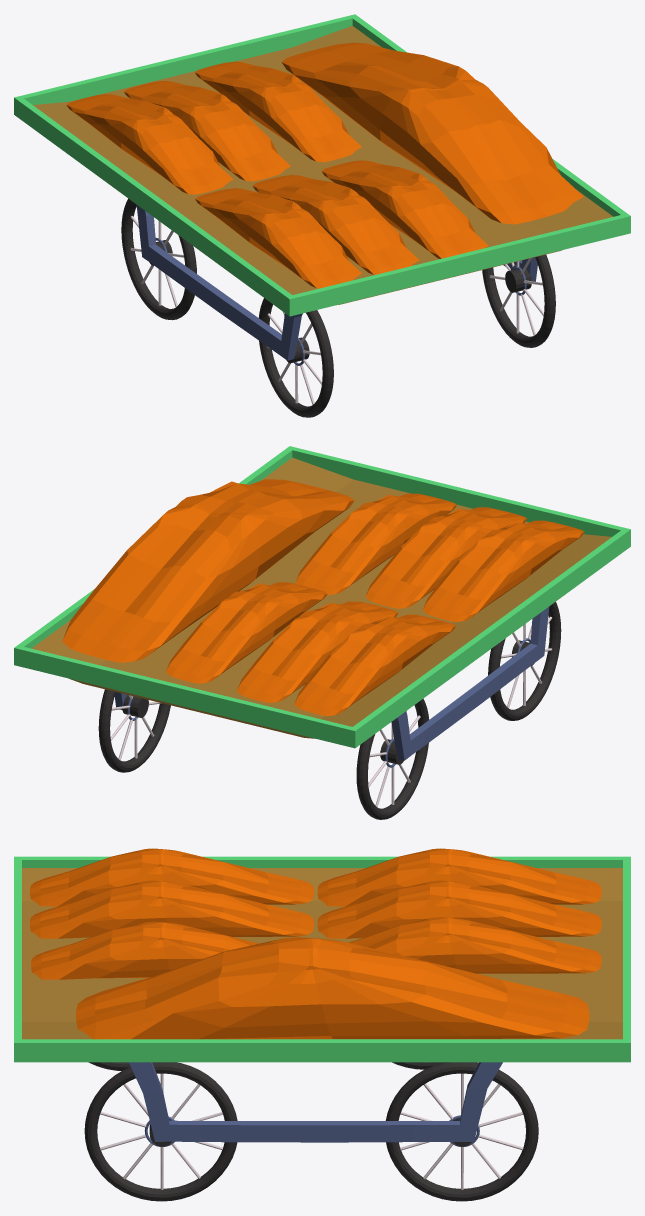
Rendered from Food Cart.fbx.
3 views of the same model, one above another, from view 1: azimuth 30°, elevation 25°; view 2: azimuth 150°, elevation 25°; view 3: azimuth 270°, elevation 25° (orthographic). The views are drawn at different scales.
Visible parts, largest first — view 1: Cube.007, Cube, Cube.005, Cube.001, Cube.015, Cube.003, Cube.004, Cube.006; view 2: Cube.007, Cube, Cube.005, Cube.015, Cube.001, Cube.003, Cube.004, Cube.006; view 3: Cube.007, Cube, Cube.006, Cube.004, Cube.005, Cube.015, Cube.001, Cube.003.
Boxes of the visible parts, x1,y1,x2,y2 form: Cube.007: (14, 14, 630, 417); Cube: (281, 42, 583, 224); Cube.005: (66, 94, 233, 194); Cube.001: (195, 61, 361, 162); Cube.015: (195, 188, 361, 288); Cube.003: (321, 160, 488, 258); Cube.004: (124, 81, 290, 181); Cube.006: (252, 175, 419, 274); Cube.007: (14, 446, 630, 819); Cube: (62, 479, 354, 662); Cube.005: (294, 614, 455, 716); Cube.015: (423, 520, 584, 621); Cube.001: (166, 582, 327, 683); Cube.003: (295, 493, 456, 594); Cube.004: (237, 601, 398, 702); Cube.006: (365, 507, 526, 608); Cube.007: (14, 856, 630, 1201); Cube: (76, 937, 589, 1039); Cube.006: (30, 880, 313, 938); Cube.004: (317, 880, 601, 938); Cube.005: (317, 848, 601, 906); Cube.015: (30, 848, 313, 906); Cube.001: (348, 917, 601, 973); Cube.003: (31, 921, 258, 979).
Size of the model in its own units: 434 by 260 by 608.
